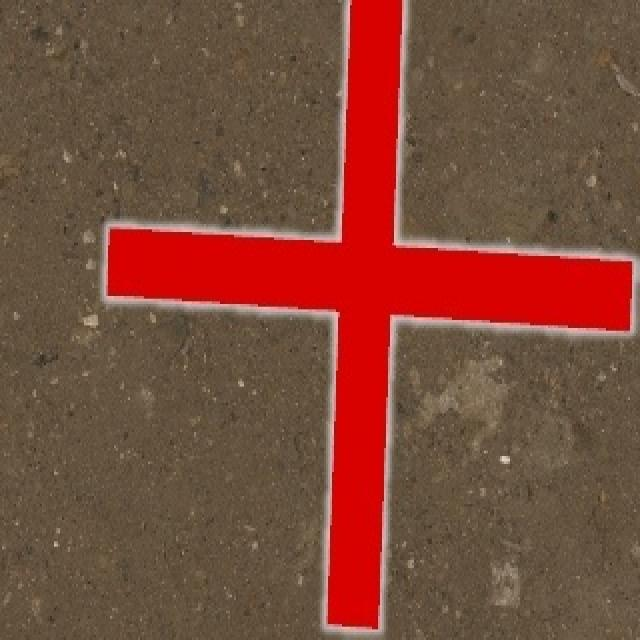x_marker: (105, 0, 633, 627)
